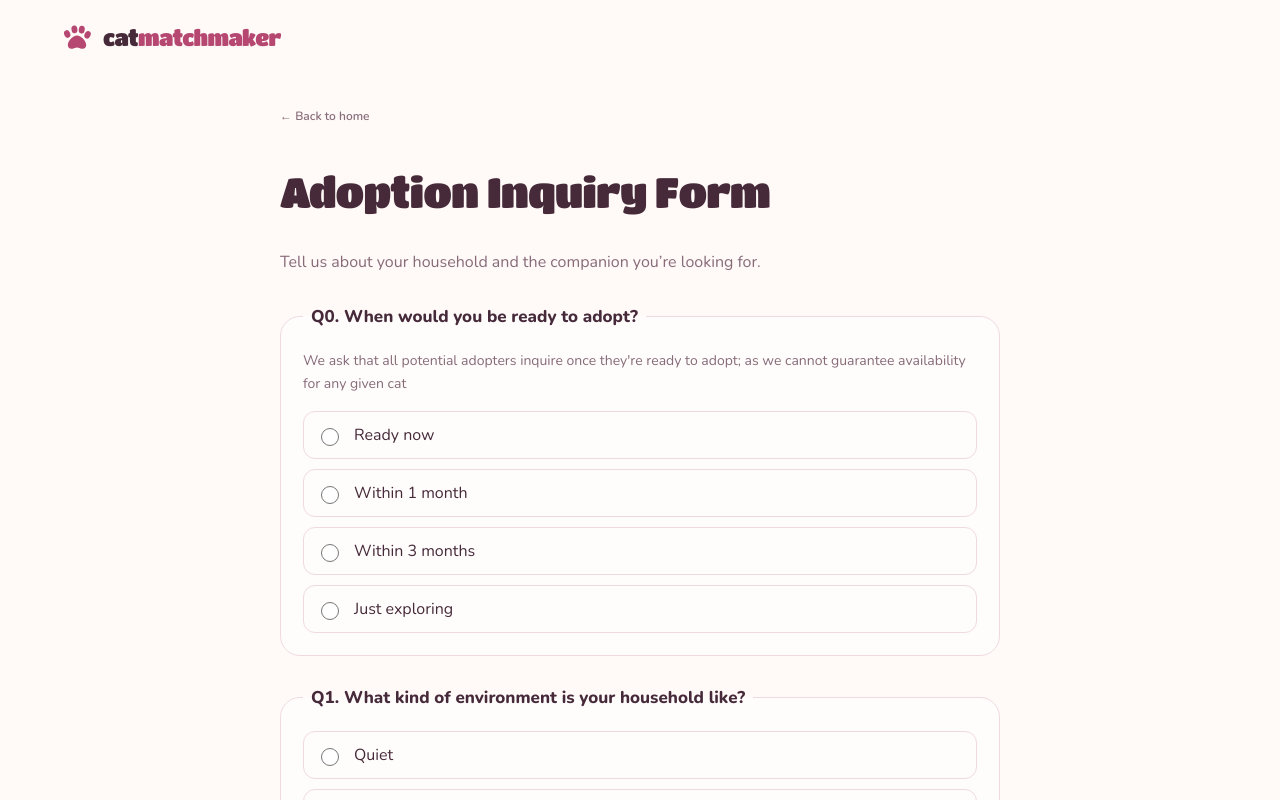
Scenario: guest adopter quiz › offers approved choices starting with Ready now
Click the radio button labelled "Ready now" at (330, 437), box [321, 428, 339, 446]
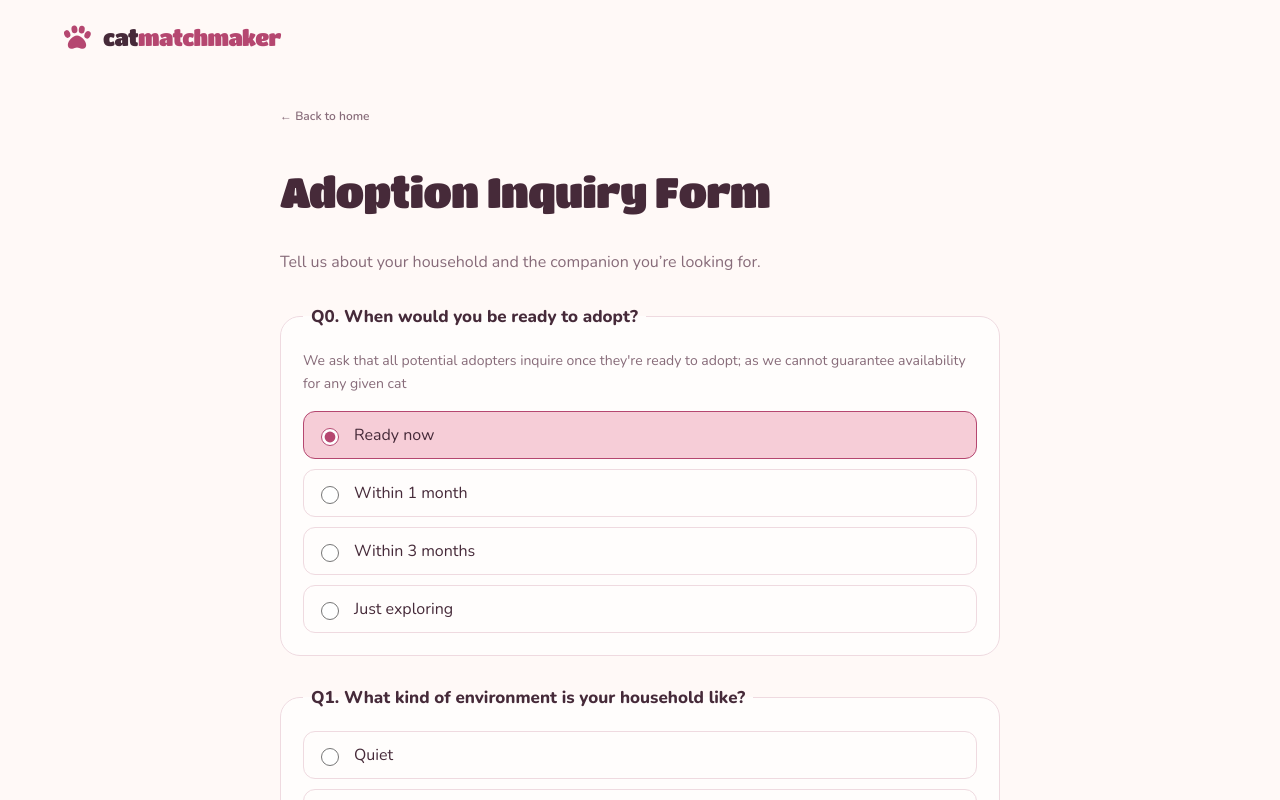
Expected: the radio button labelled "Within 3 months" is not checked, [321, 544, 339, 562]
Result: the radio button labelled "Ready now" is checked at [321, 428, 339, 446]
Click the radio button labelled "Within 1 month" at (330, 495), box [321, 486, 339, 504]
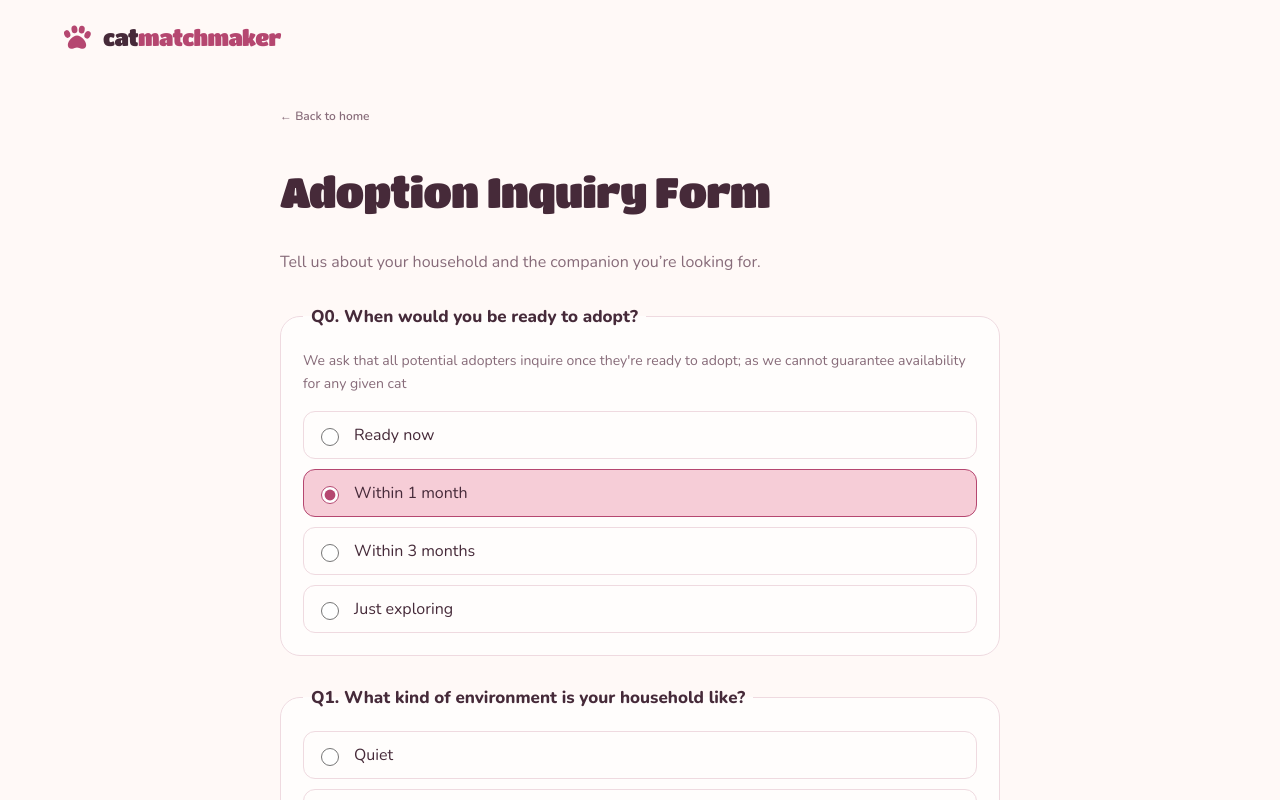
Expected: the radio button labelled "Just exploring" is not checked, [321, 602, 339, 620]
Result: the radio button labelled "Within 1 month" is checked at [321, 486, 339, 504]
Result: the radio button labelled "Ready now" is not checked at [321, 428, 339, 446]
Click the radio button labelled "Within 3 months" at (330, 553), box [321, 544, 339, 562]
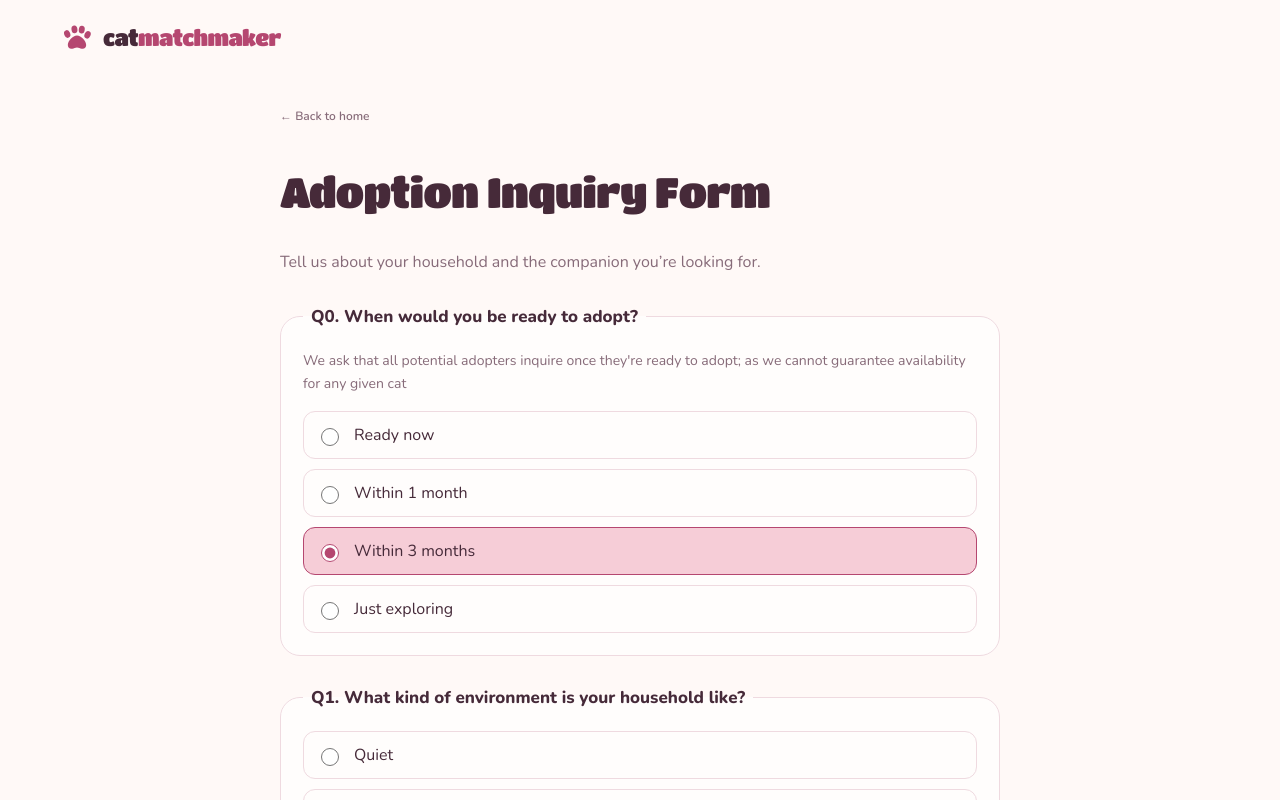
Result: the radio button labelled "Within 3 months" is checked at [321, 544, 339, 562]
Result: the radio button labelled "Ready now" is not checked at [321, 428, 339, 446]
Result: the radio button labelled "Within 1 month" is not checked at [321, 486, 339, 504]
Click the radio button labelled "Just exploring" at (330, 611), box [321, 602, 339, 620]
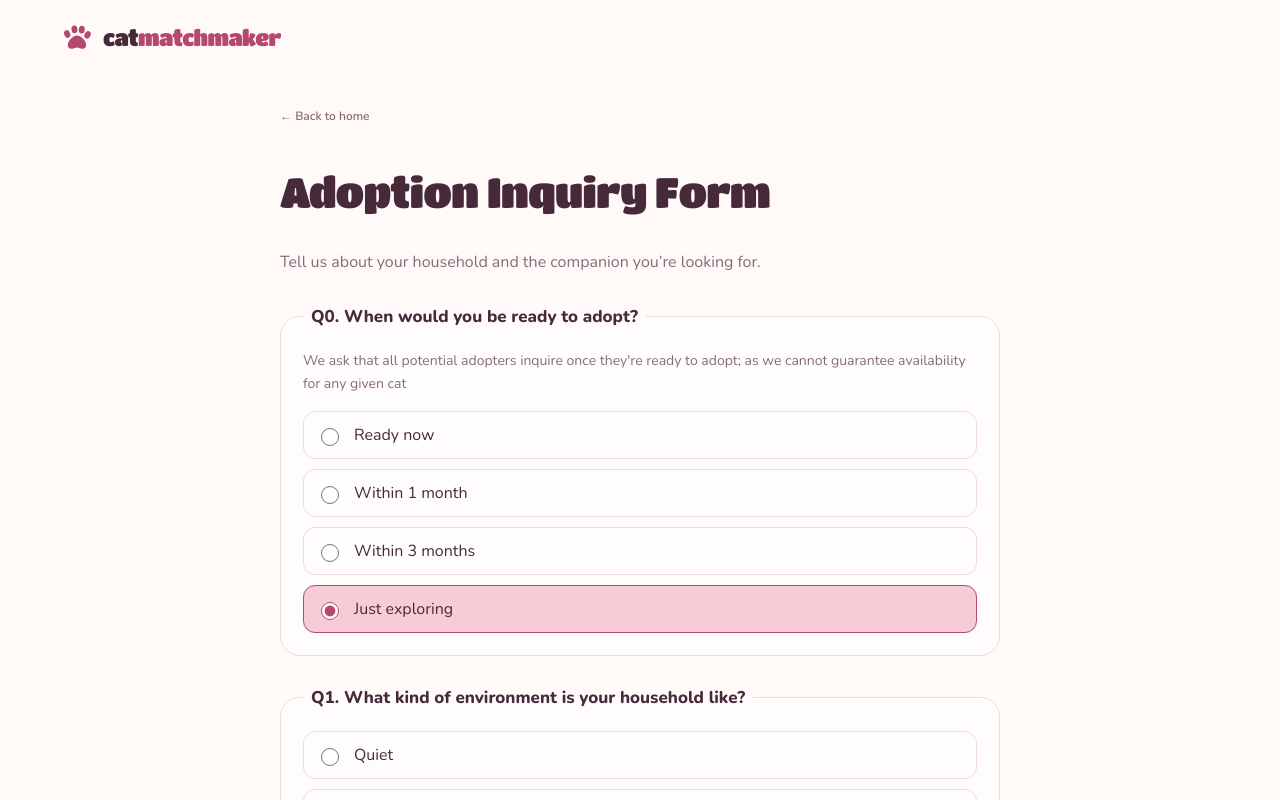
Result: the radio button labelled "Just exploring" is checked at [321, 602, 339, 620]
Result: the radio button labelled "Ready now" is not checked at [321, 428, 339, 446]
Result: the radio button labelled "Within 1 month" is not checked at [321, 486, 339, 504]
